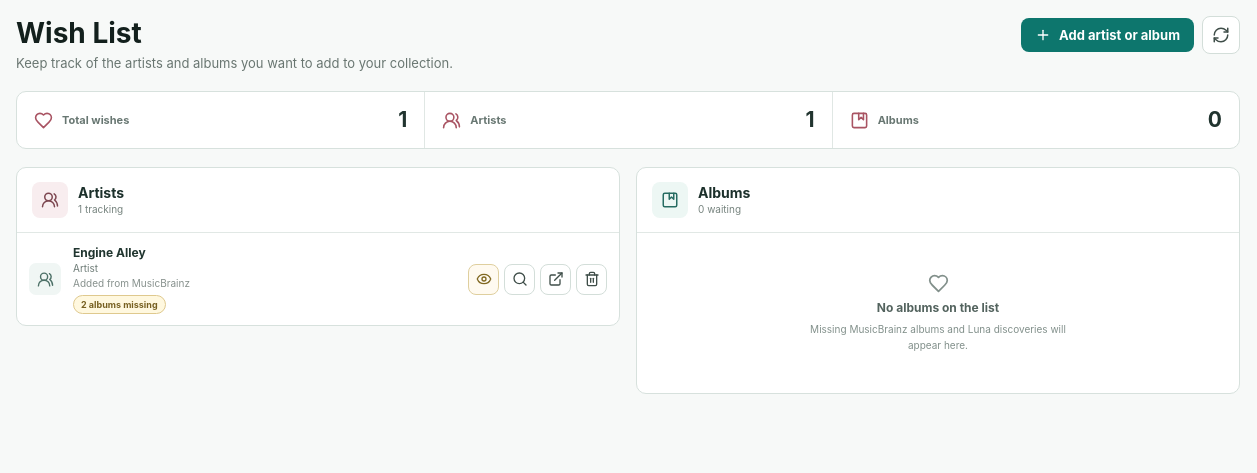
Test: WishListWorkspace › loads an uncached artist album summary without removing the artist
expect the text "Engine Alley" is shown: met, box [73,245,146,260]
expect the text "2 albums missing" is shown once: met, box [73,295,166,314]
Hover over the button named "Show 2 albums missing for Engine Alley" at (484, 279), box [468,264,499,294]
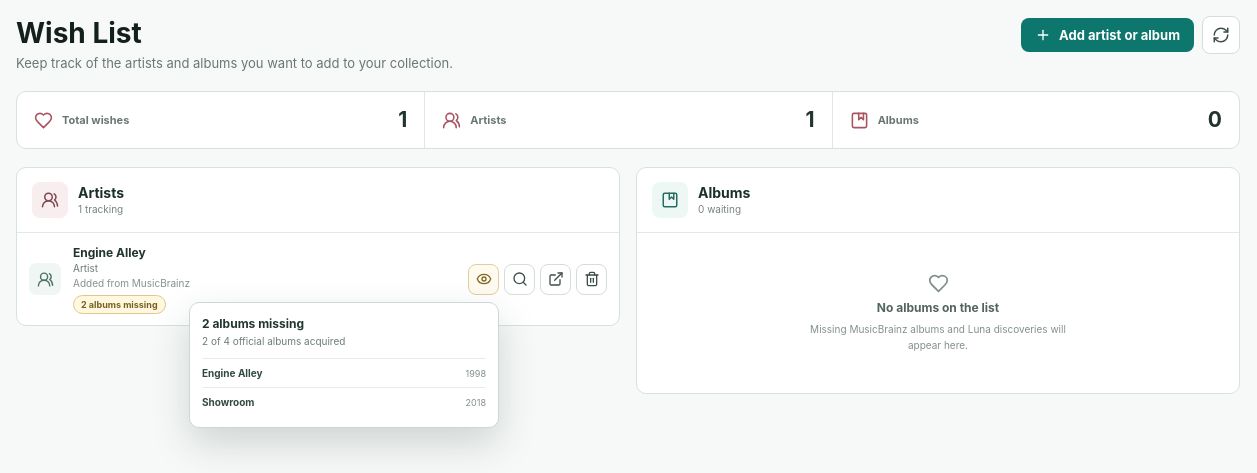
expect the text "2 of 4 official albums acquired" is shown: met, box [202,334,345,346]
